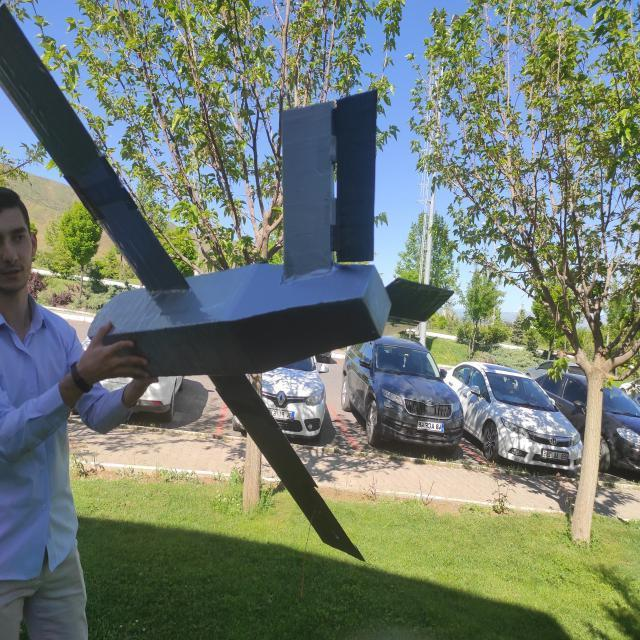iha: (4, 6, 458, 564)
